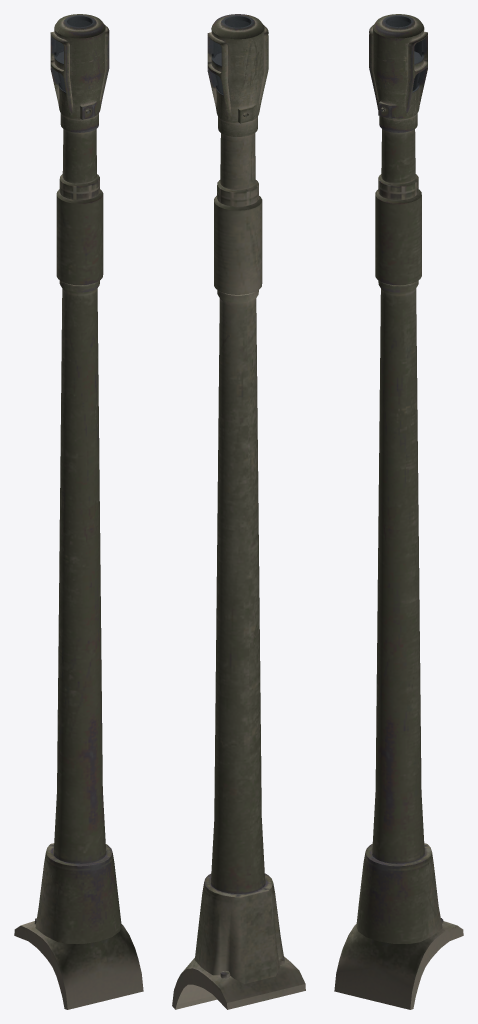
Rendered from Gun_08.glb.
The picture shows the model from 3 angles, left to right: view 1: azimuth 30°, elevation 25°; view 2: azimuth 210°, elevation 25°; view 3: azimuth 330°, elevation 25°; orthographic projection. The views are drawn at different scales.
Visible parts, largest first — view 1: set_0_group_0; view 2: set_0_group_0; view 3: set_0_group_0.
Boxes of the visible parts, bbox=[...] form: set_0_group_0: bbox=[14, 14, 143, 1009]; set_0_group_0: bbox=[172, 14, 305, 1009]; set_0_group_0: bbox=[334, 14, 463, 1009].
Bounding box in the file's own units: 0.3768 × 4.56 × 0.4585.
1 material, 1 textured.
